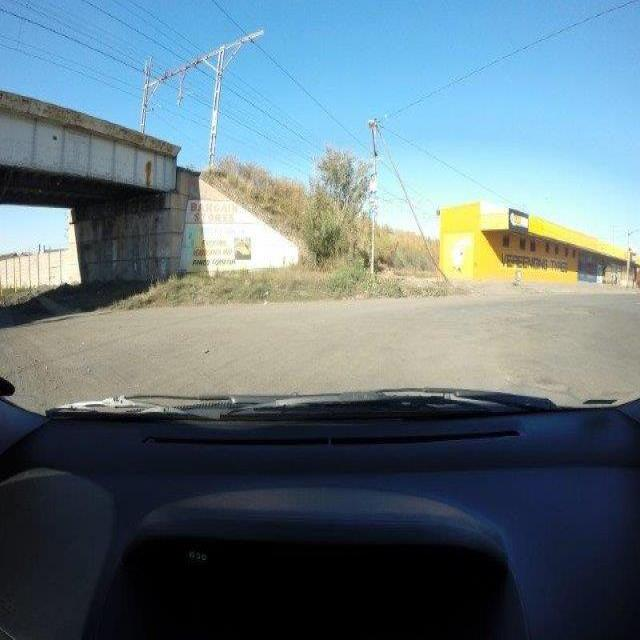lubang: (530, 368, 573, 397)
